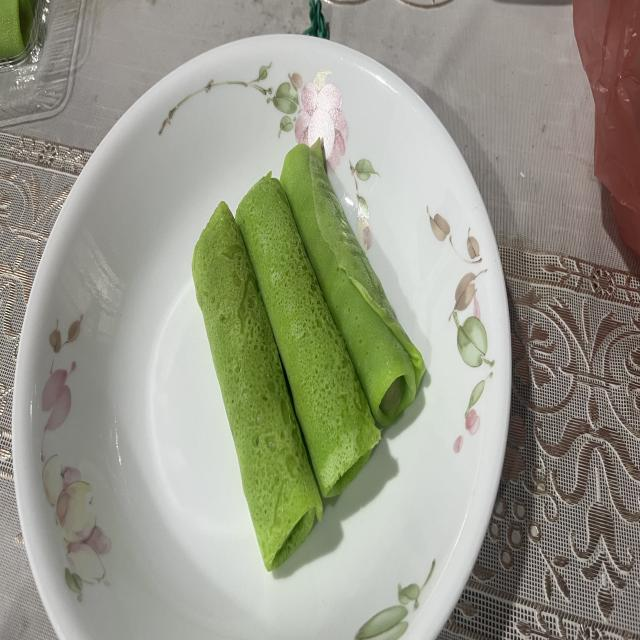Kuih-Ketayap: (192, 202, 322, 571), (235, 173, 380, 496), (281, 140, 425, 427)
